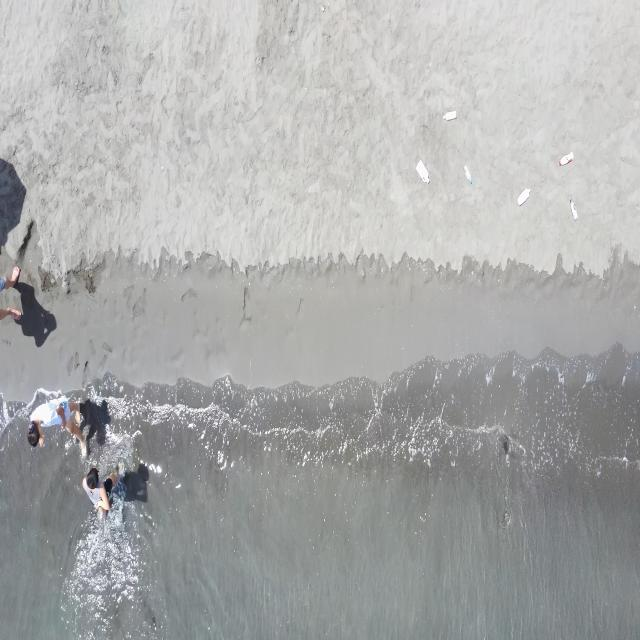Garbage: (416, 160, 427, 181), (516, 187, 529, 204), (560, 151, 572, 164), (464, 164, 472, 183), (569, 199, 575, 219), (444, 110, 454, 120), (320, 4, 324, 11)
